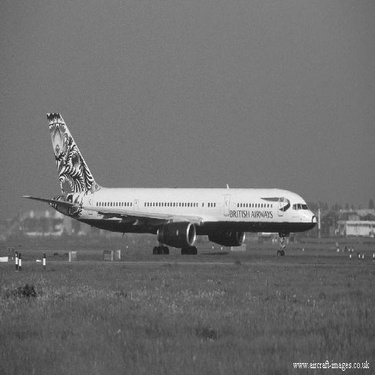airplane: (19, 102, 324, 251)
